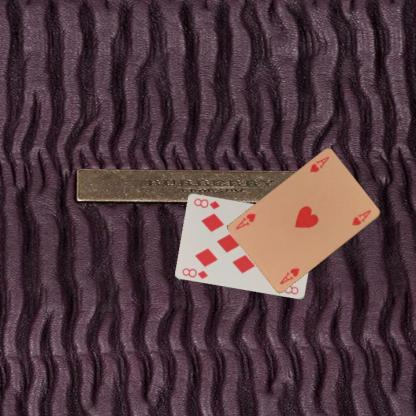8d: (180, 265, 209, 280)
Ah: (306, 154, 331, 173), (277, 266, 300, 286)
